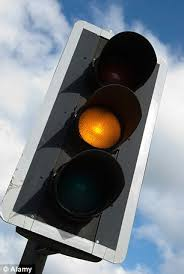amber: (37, 25, 156, 253), (51, 40, 147, 222)
